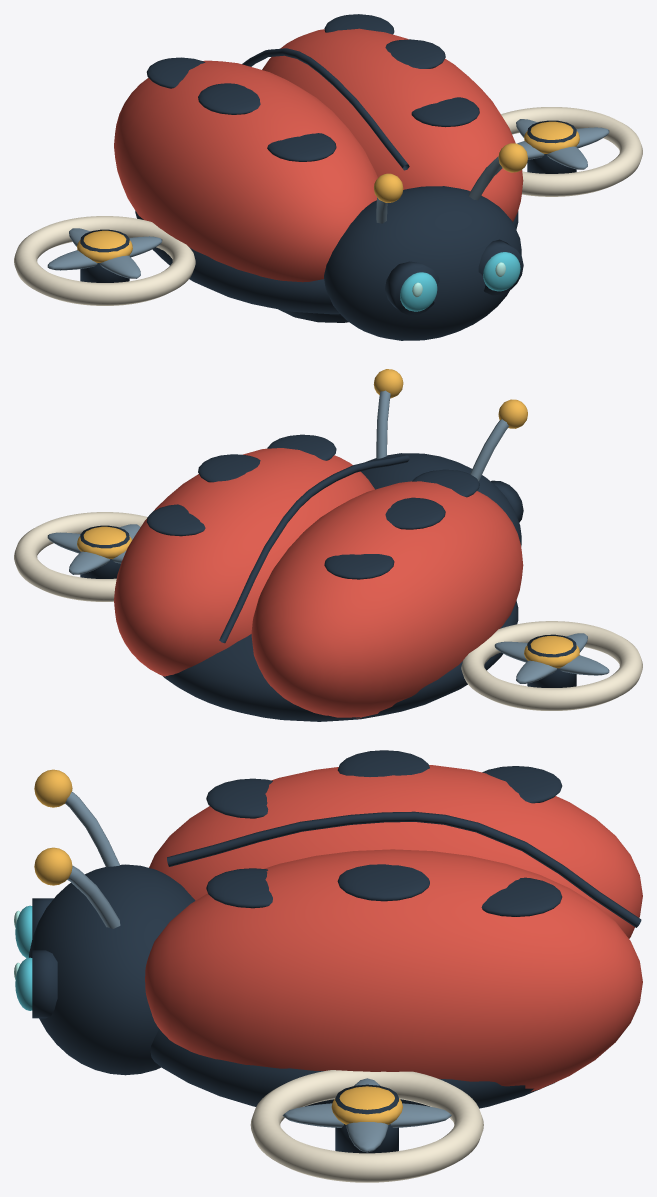
The model's file is ladybug.glb.
3 views of the same model, one above another, from view 1: azimuth 30°, elevation 25°; view 2: azimuth 150°, elevation 25°; view 3: azimuth 270°, elevation 25° (orthographic). The views are drawn at different scales.
Parts seen in each view (by area): view 1: BodyMesh, Rotor0Mesh, Rotor1Mesh; view 2: BodyMesh, Rotor0Mesh, Rotor1Mesh; view 3: BodyMesh, Rotor1Mesh.
Boxes of the visible parts, left/top/right/bottom form: BodyMesh: left=14, top=14, right=642, bottom=340; Rotor0Mesh: left=47, top=228, right=162, bottom=278; Rotor1Mesh: left=516, top=119, right=609, bottom=169; BodyMesh: left=14, top=369, right=642, bottom=721; Rotor0Mesh: left=494, top=633, right=609, bottom=683; Rotor1Mesh: left=47, top=524, right=140, bottom=574; BodyMesh: left=14, top=750, right=642, bottom=1182; Rotor1Mesh: left=282, top=1078, right=451, bottom=1152.
Bounding box in the file's own units: 2.11 × 0.735 × 1.48.
